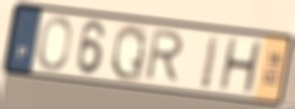6: (75, 20, 109, 78)
H: (216, 36, 264, 96)
I: (198, 32, 222, 92)
O: (36, 15, 74, 73)
Q: (108, 22, 149, 84)
R: (141, 28, 187, 86)
